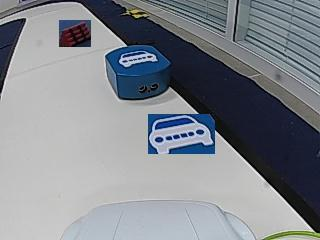safety: (118, 50, 157, 67)
